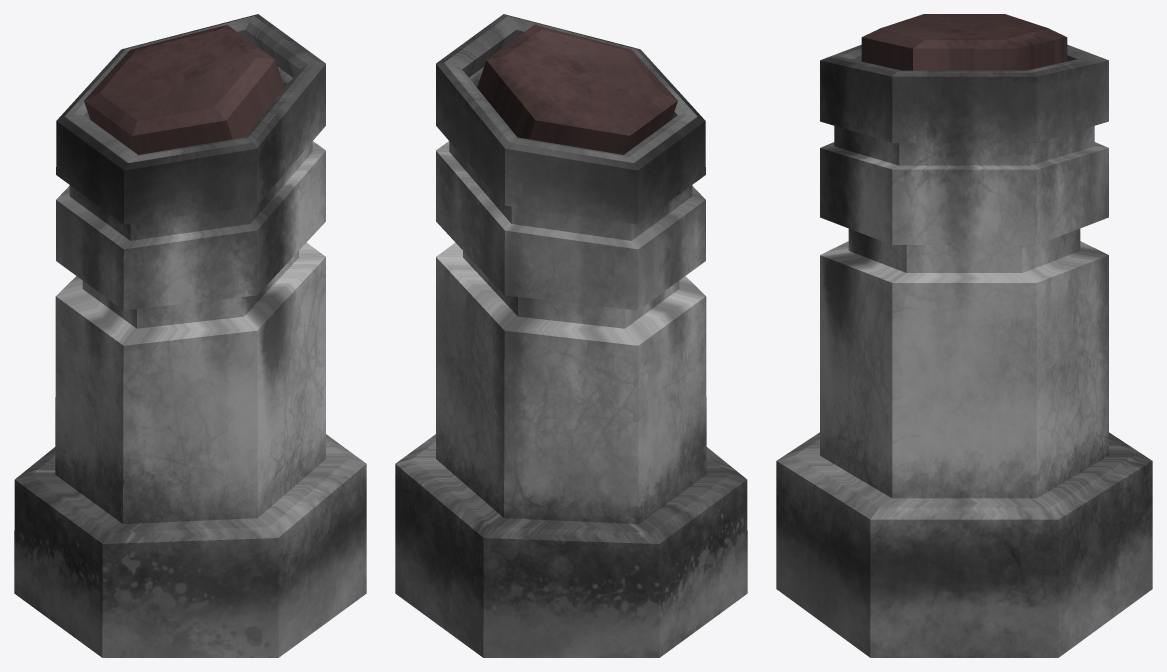
The model's file is MOD_L1_Buttton01.fbx.
The picture shows the model from 3 angles, left to right: view 1: azimuth 30°, elevation 25°; view 2: azimuth 150°, elevation 25°; view 3: azimuth 270°, elevation 25°; orthographic projection. The views are drawn at different scales.
Visible parts, largest first — view 1: Cube.003; view 2: Cube.003; view 3: Cube.003.
Boxes of the visible parts, <box> form: Cube.003: <box>14,14,366,657</box>; Cube.003: <box>395,14,747,657</box>; Cube.003: <box>776,14,1152,657</box>.
Bounding box in the file's own units: 4.63 × 9 × 5.34.
